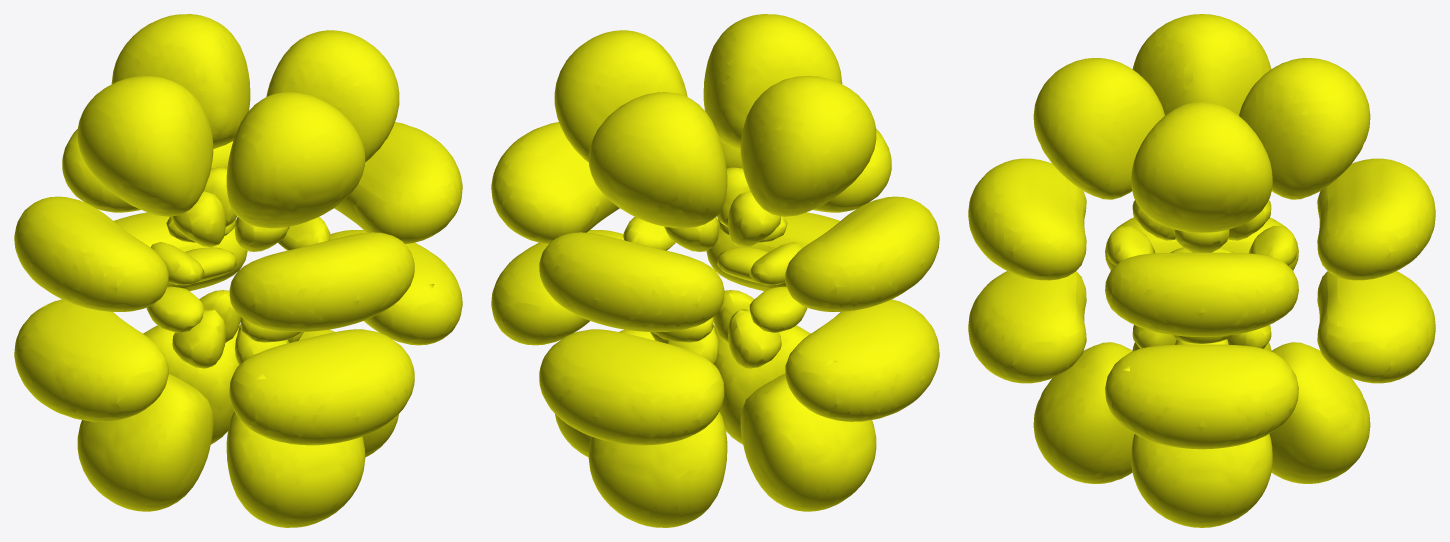
File: orb_n=7_ l=5 _m=2.fbx
3 views of the same model, side by side, from view 1: azimuth 30°, elevation 25°; view 2: azimuth 150°, elevation 25°; view 3: azimuth 270°, elevation 25° (orthographic). The views are drawn at different scales.
Visible parts, largest first — view 1: orb_n=7_ l=5 _m=2; view 2: orb_n=7_ l=5 _m=2; view 3: orb_n=7_ l=5 _m=2.
Boxes of the visible parts, left/top/right/bottom form: orb_n=7_ l=5 _m=2: left=14, top=14, right=462, bottom=527; orb_n=7_ l=5 _m=2: left=491, top=14, right=939, bottom=527; orb_n=7_ l=5 _m=2: left=968, top=14, right=1435, bottom=527.
Size of the model in its own units: 17341 by 16948 by 17341.
